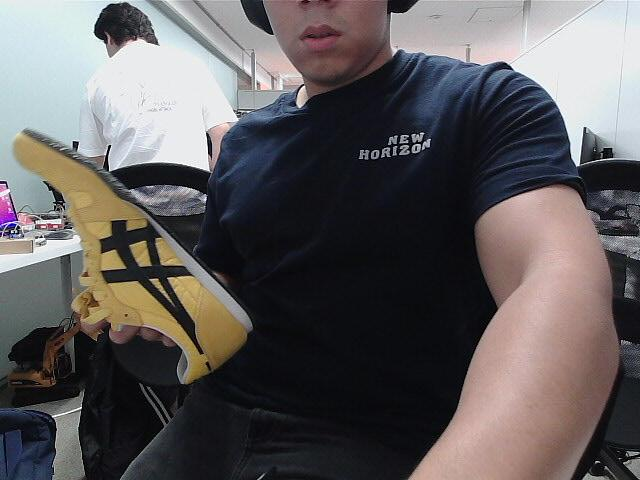Shoes: (12, 129, 254, 384)
